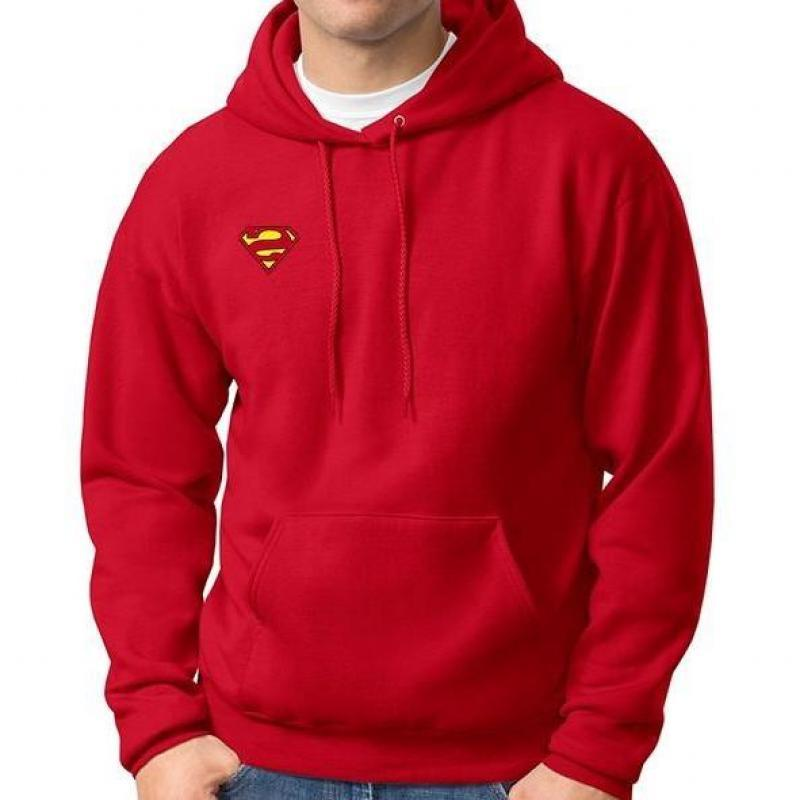sweater: (74, 0, 718, 800)
